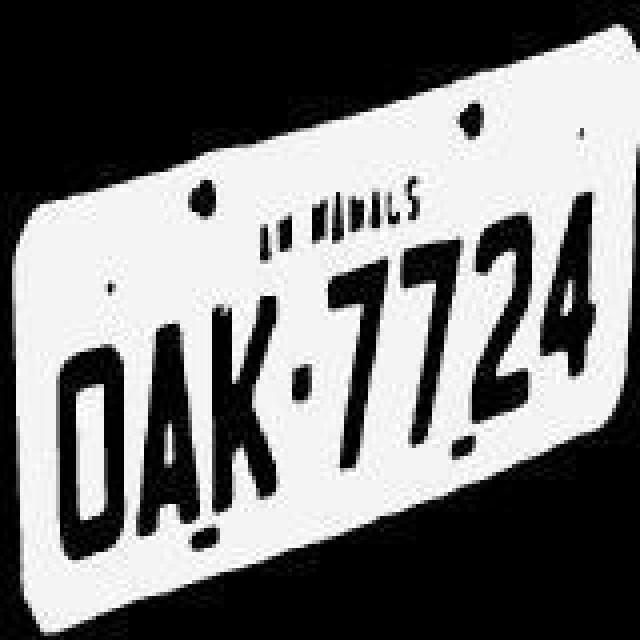2: (470, 202, 538, 430)
4: (534, 190, 610, 386)
7: (322, 248, 398, 472), (392, 228, 464, 452)
A: (132, 306, 204, 542)
K: (206, 284, 290, 516)
O: (46, 340, 138, 564)
